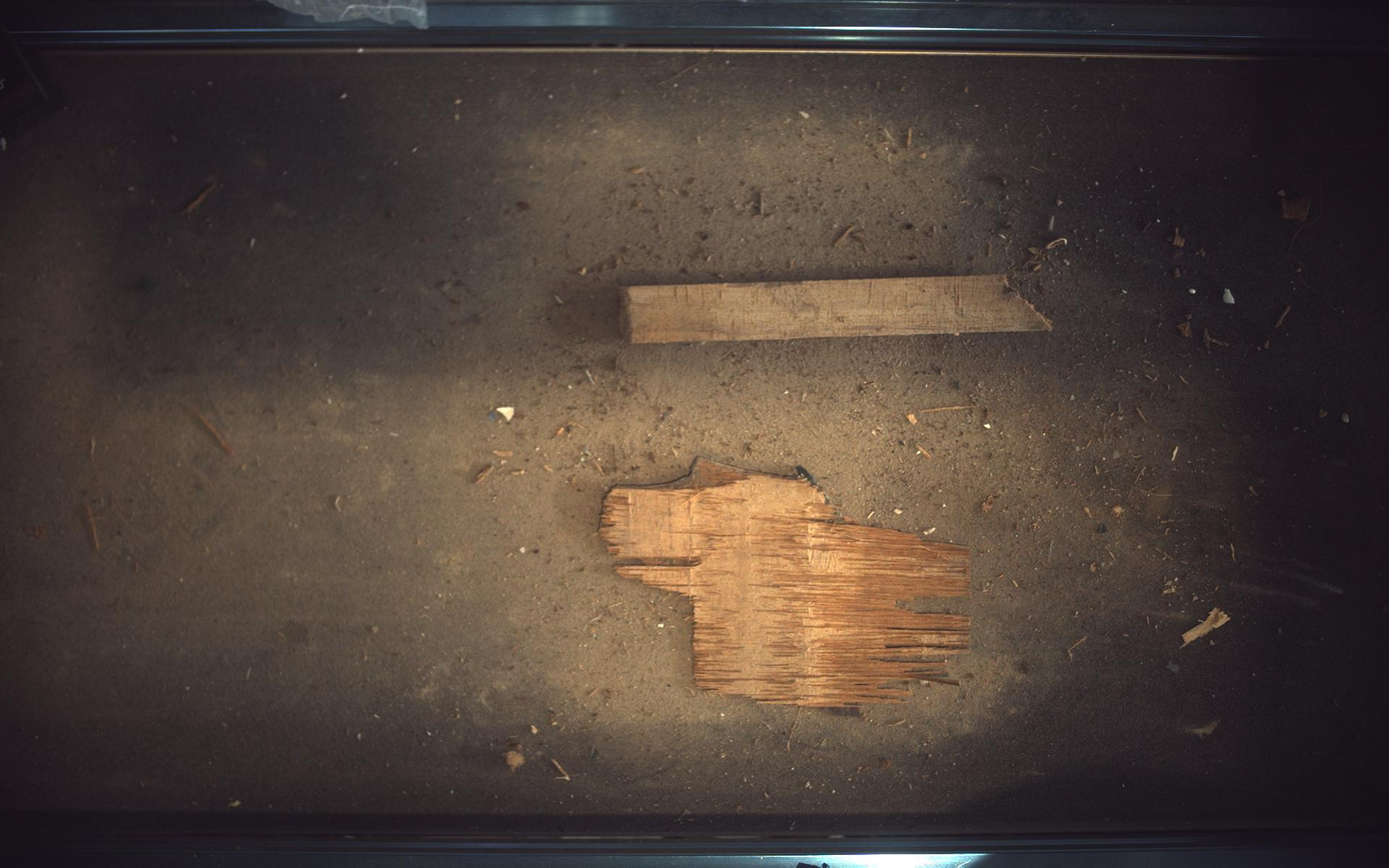wood: (600, 459, 972, 708), (621, 274, 1054, 343)
